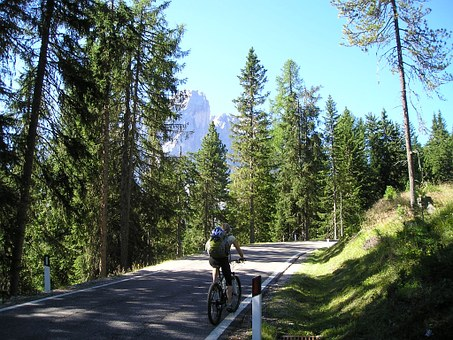bikerider: (196, 221, 248, 321)
